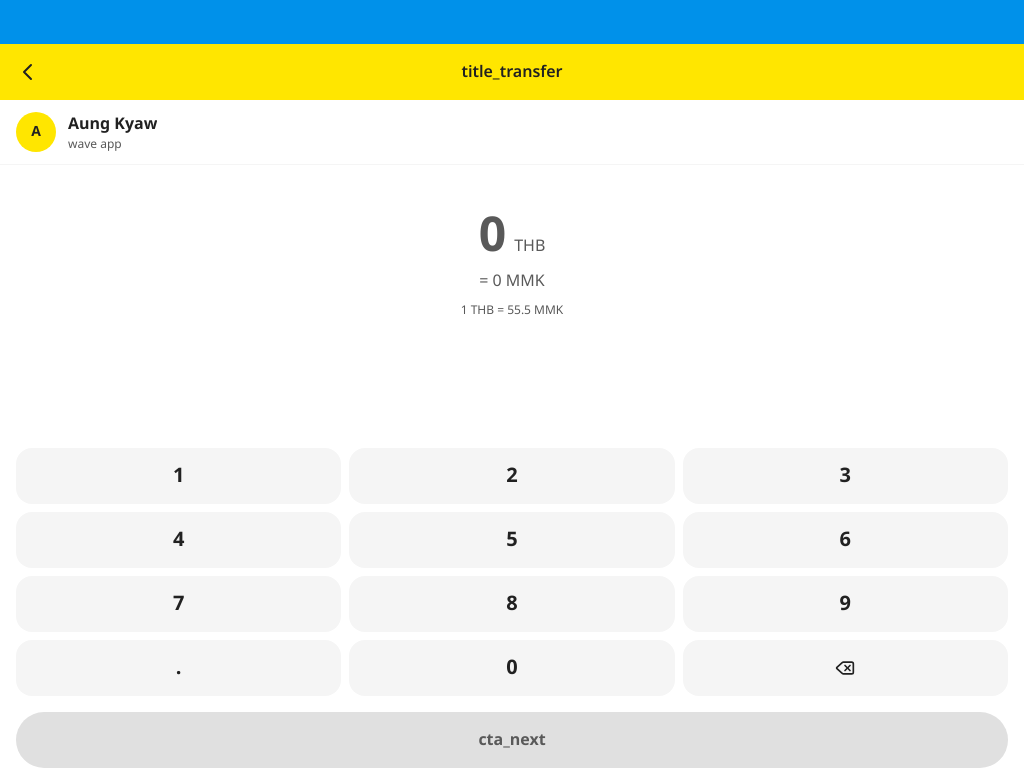
it: AmountPage › shows error when amount is above maximum (25000 THB)
// Type 26000 via keypad: 2, 6, 0, 0, 0
Click the button "2".
click(512, 476)  # box 349,448 -> 675,504
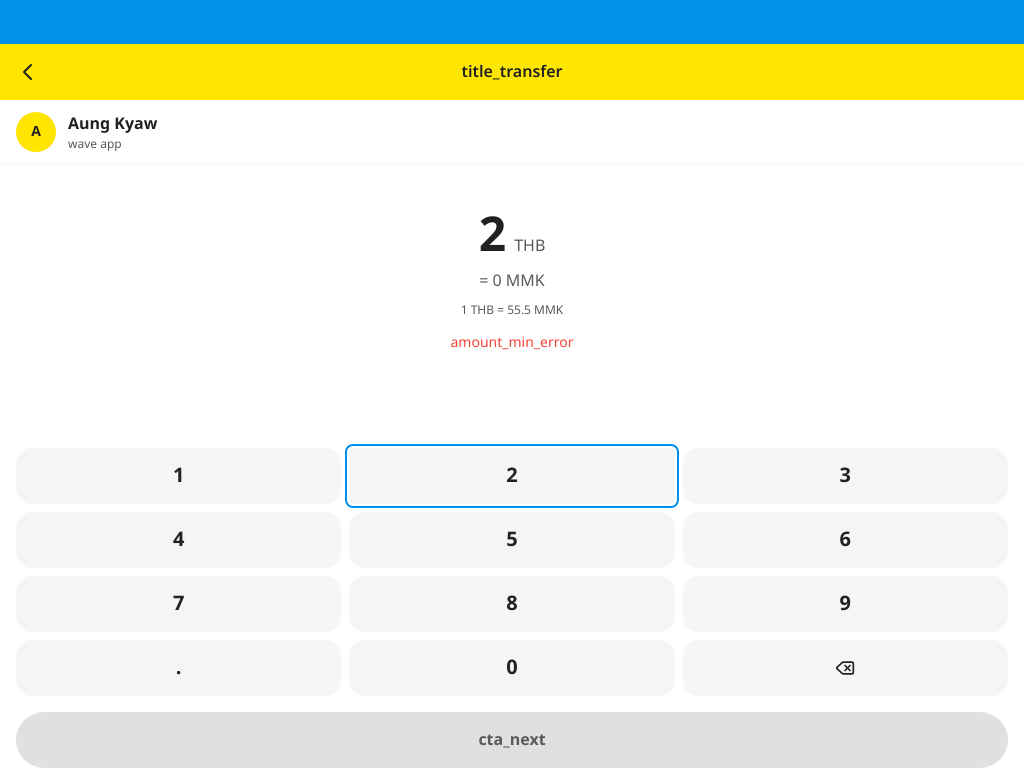
Click the button "6".
click(845, 540)  # box 683,512 -> 1008,568
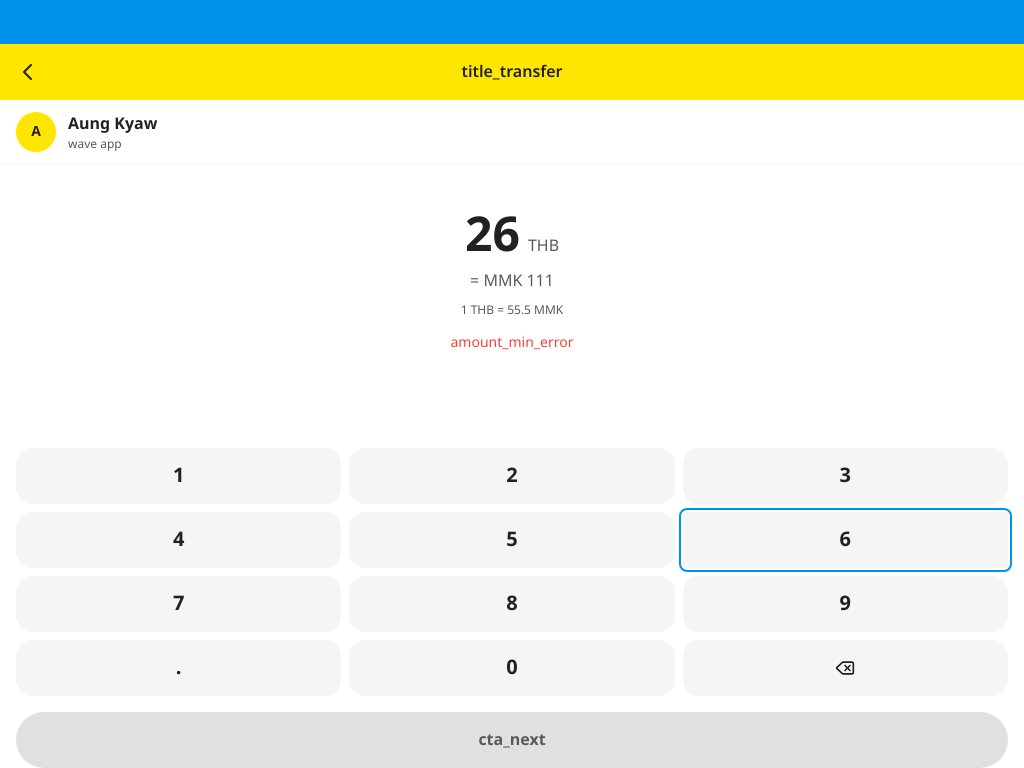
Click the button "0".
click(512, 668)  # box 349,640 -> 675,696
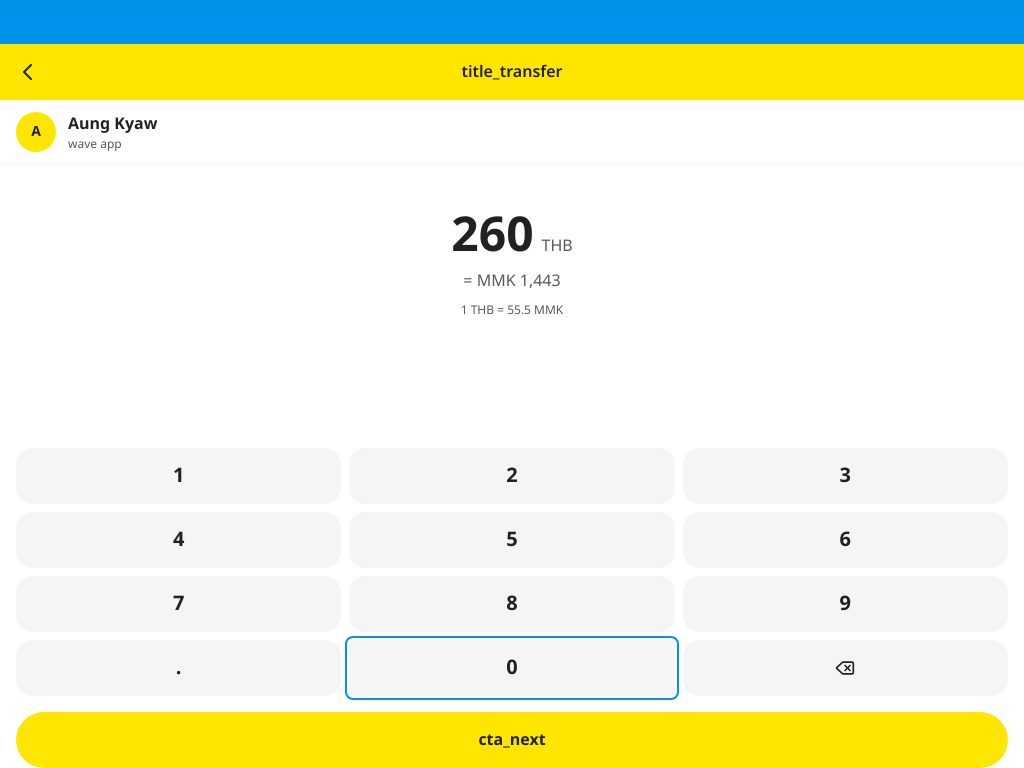
Click the button "0".
click(512, 668)  # box 349,640 -> 675,696
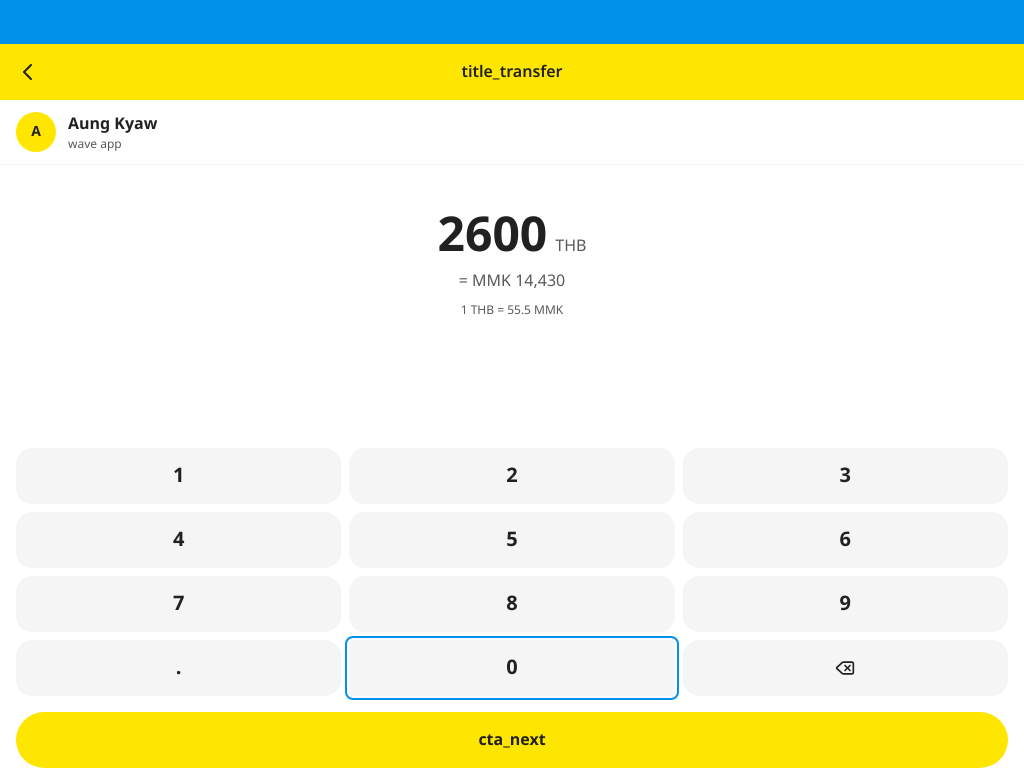
Click the button "0".
click(512, 668)  # box 349,640 -> 675,696
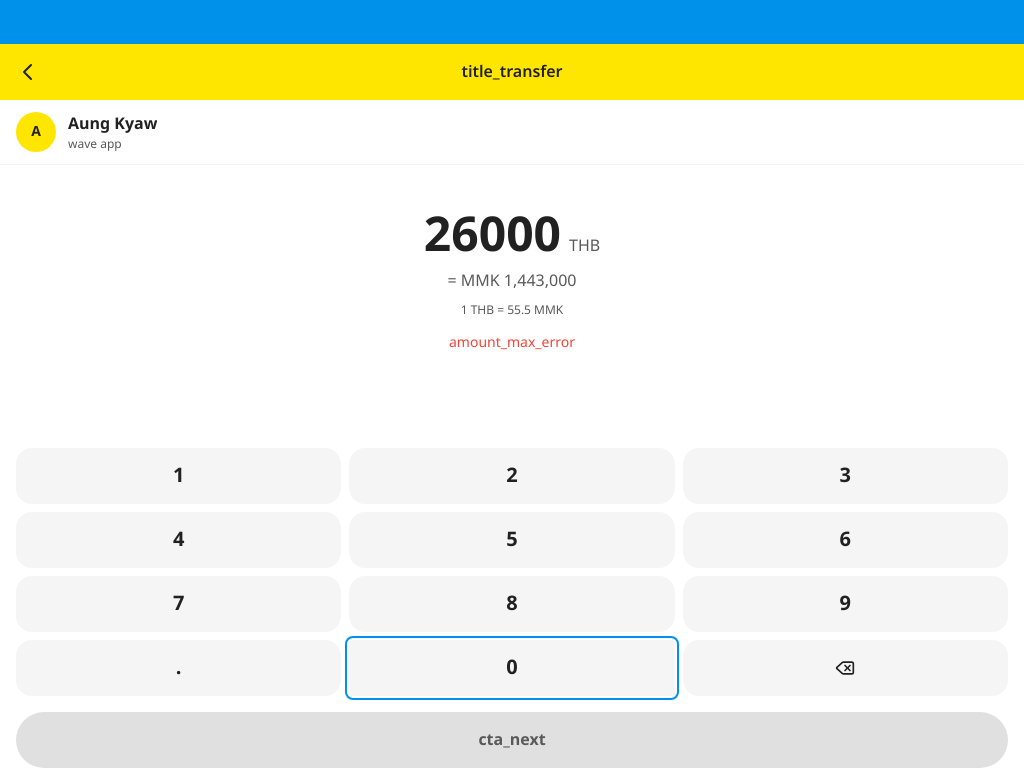
Expected: the text "amount_max_error" is shown, 449,333 -> 575,353
